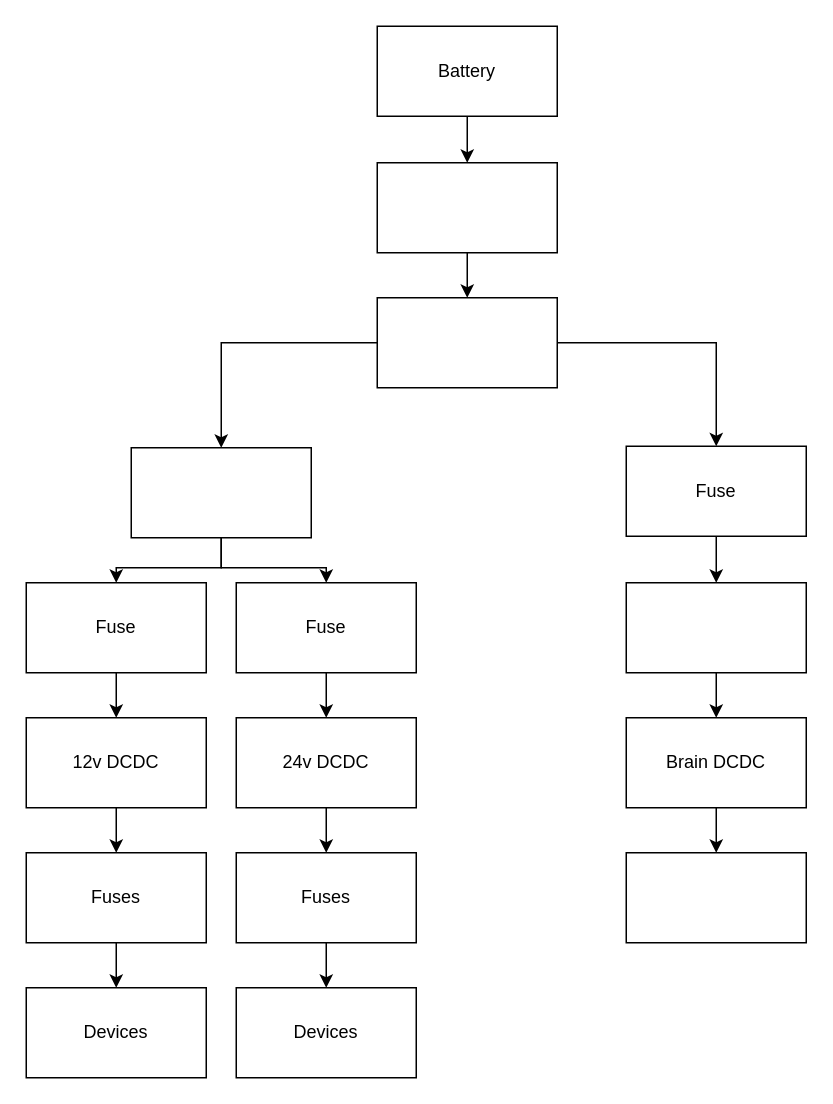
Image size: 833x1104. Some labels were removed from this diagram. Here are the shapes that lost their labels. From the top down, the centre of each, then its label:
At [466,207]: "Main Fuse".
At [466,342]: "LVMS".
At [220,492]: "Main Relay".
At [715,627]: "Brain switch".
At [715,897]: "Brain".
